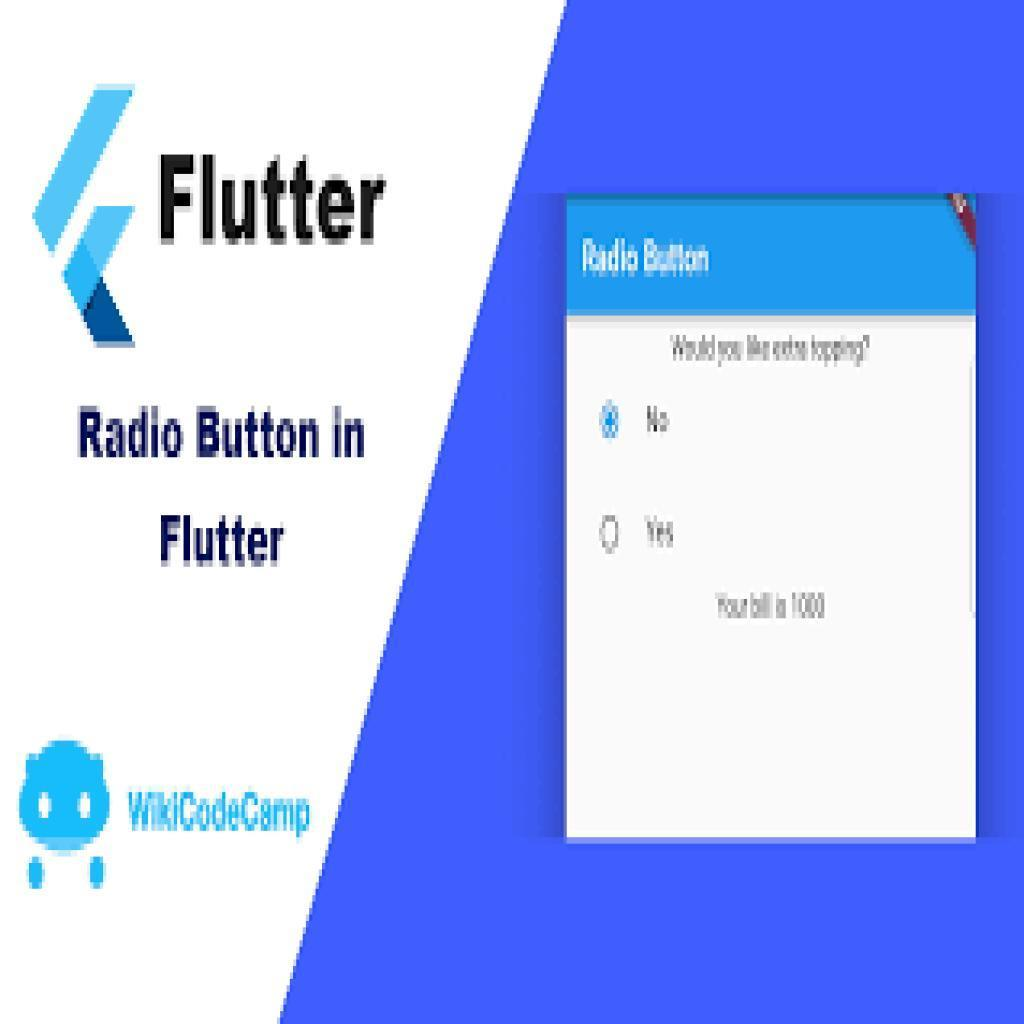radio: (598, 401, 625, 448), (598, 515, 623, 560)
